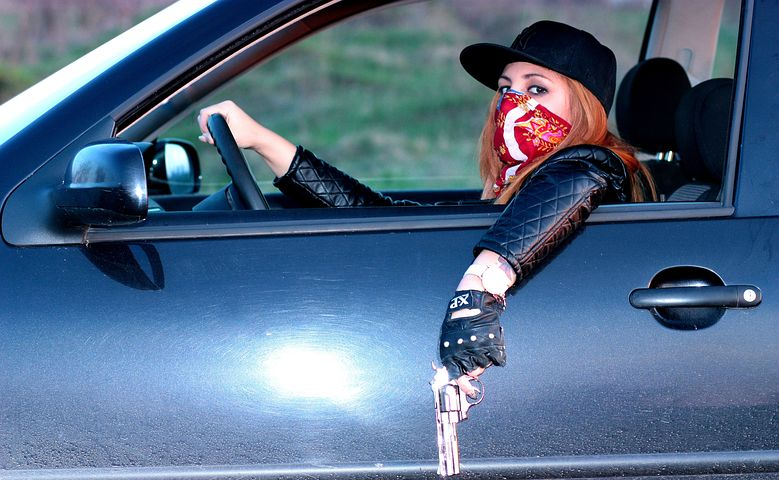gun: (425, 352, 506, 480)
